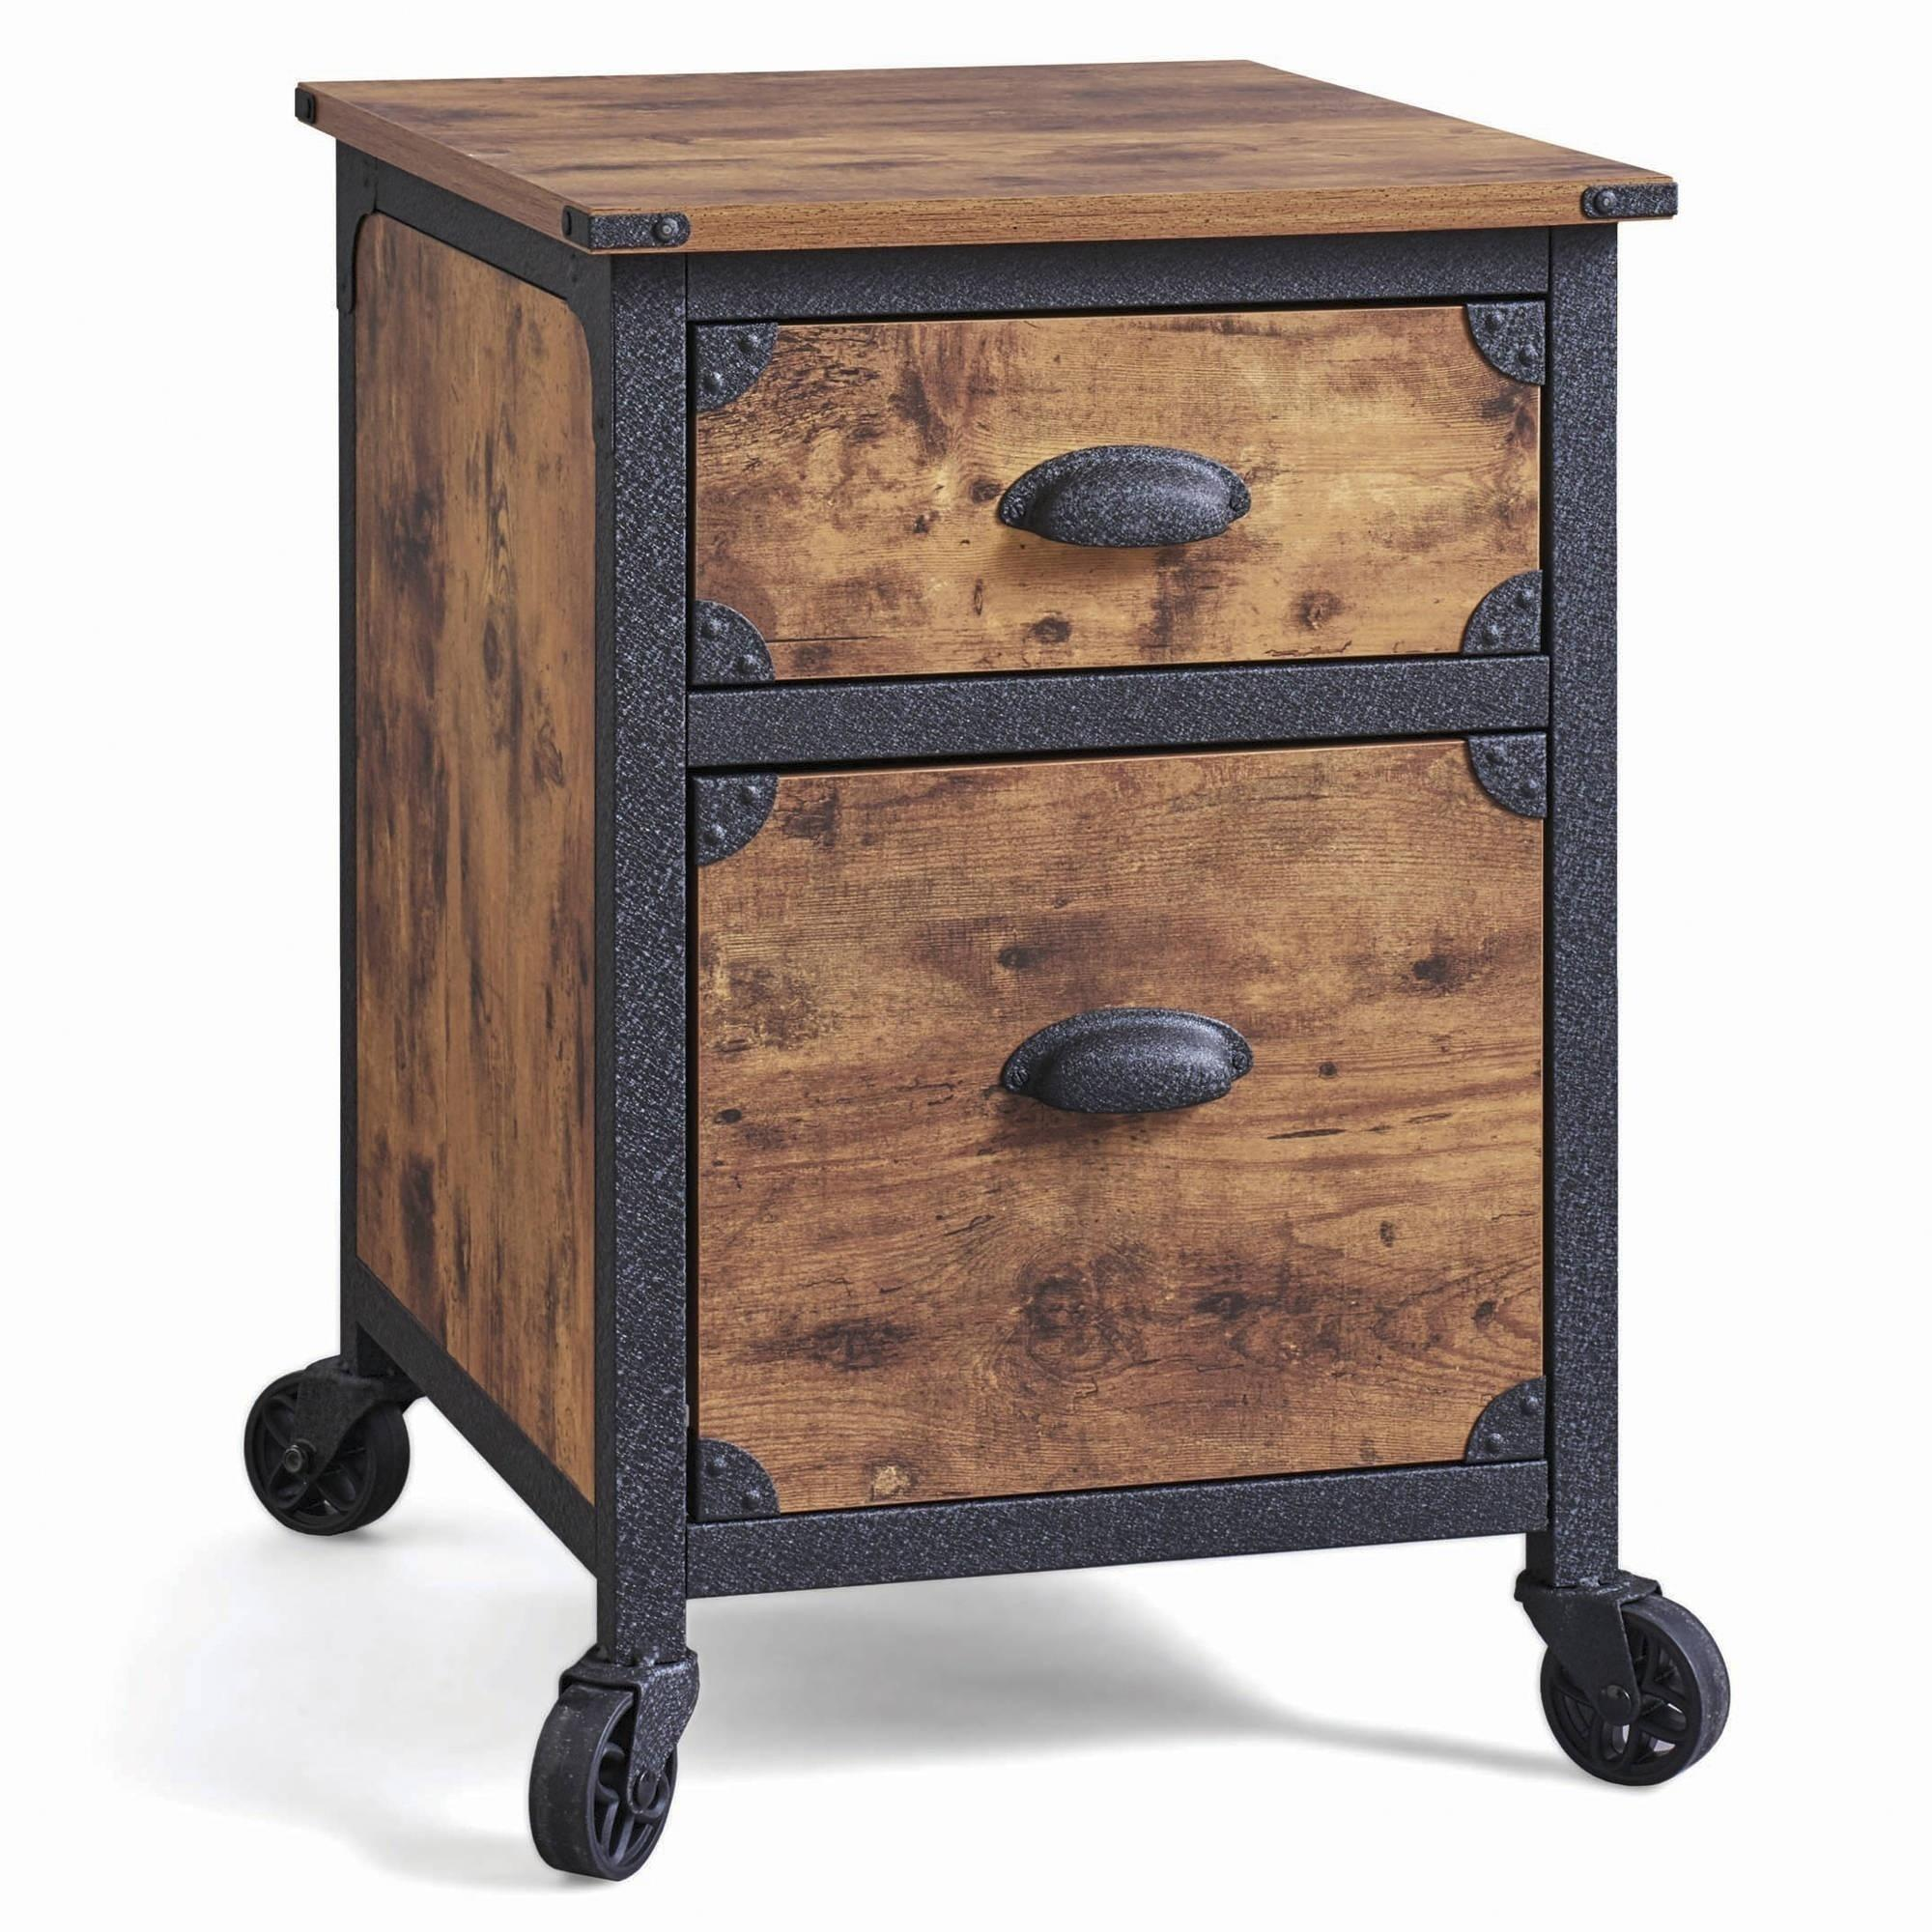cabinet_door: (701, 750, 1541, 1484), (697, 310, 1552, 676)
handle: (971, 426, 1258, 580), (991, 991, 1261, 1136)
